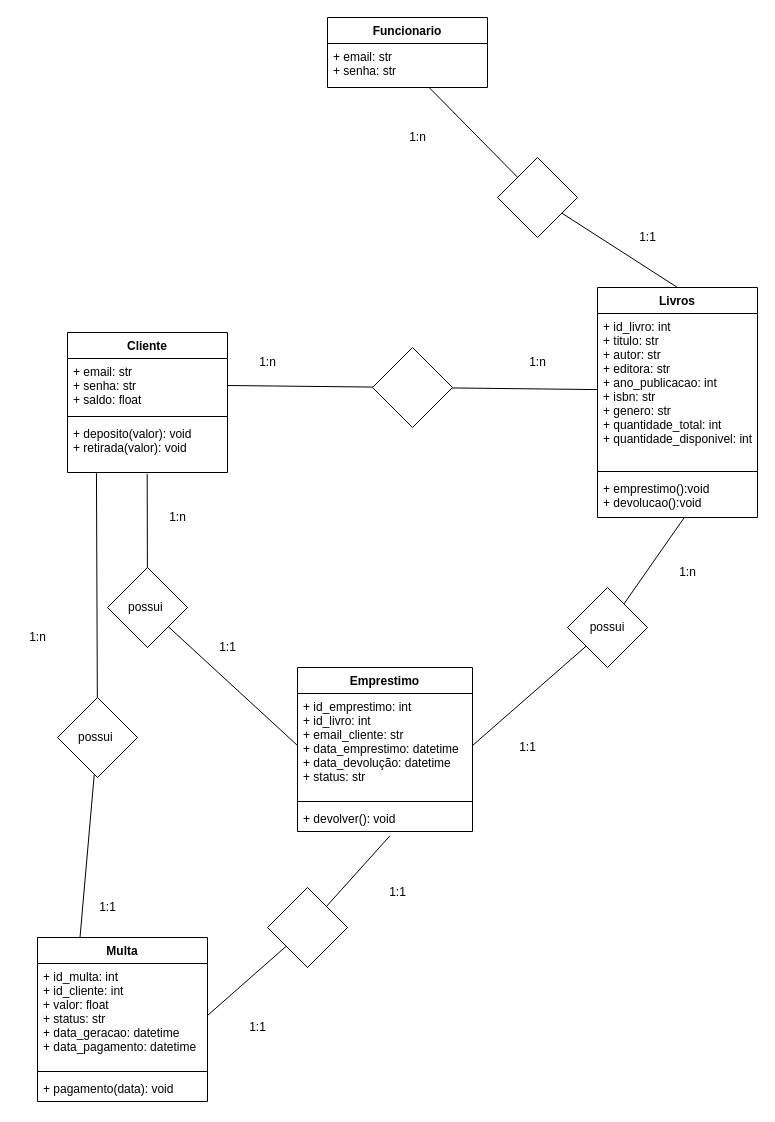
Image size: 775x1122. Some labels were removed from this diagram. The shapes that lost their labels are listed below. From the top down, each one's centre as x and y in pixels, then its label:
At (537,197): "cadastra".
At (412,387): "Coleta".
At (307,927): "Cria".
